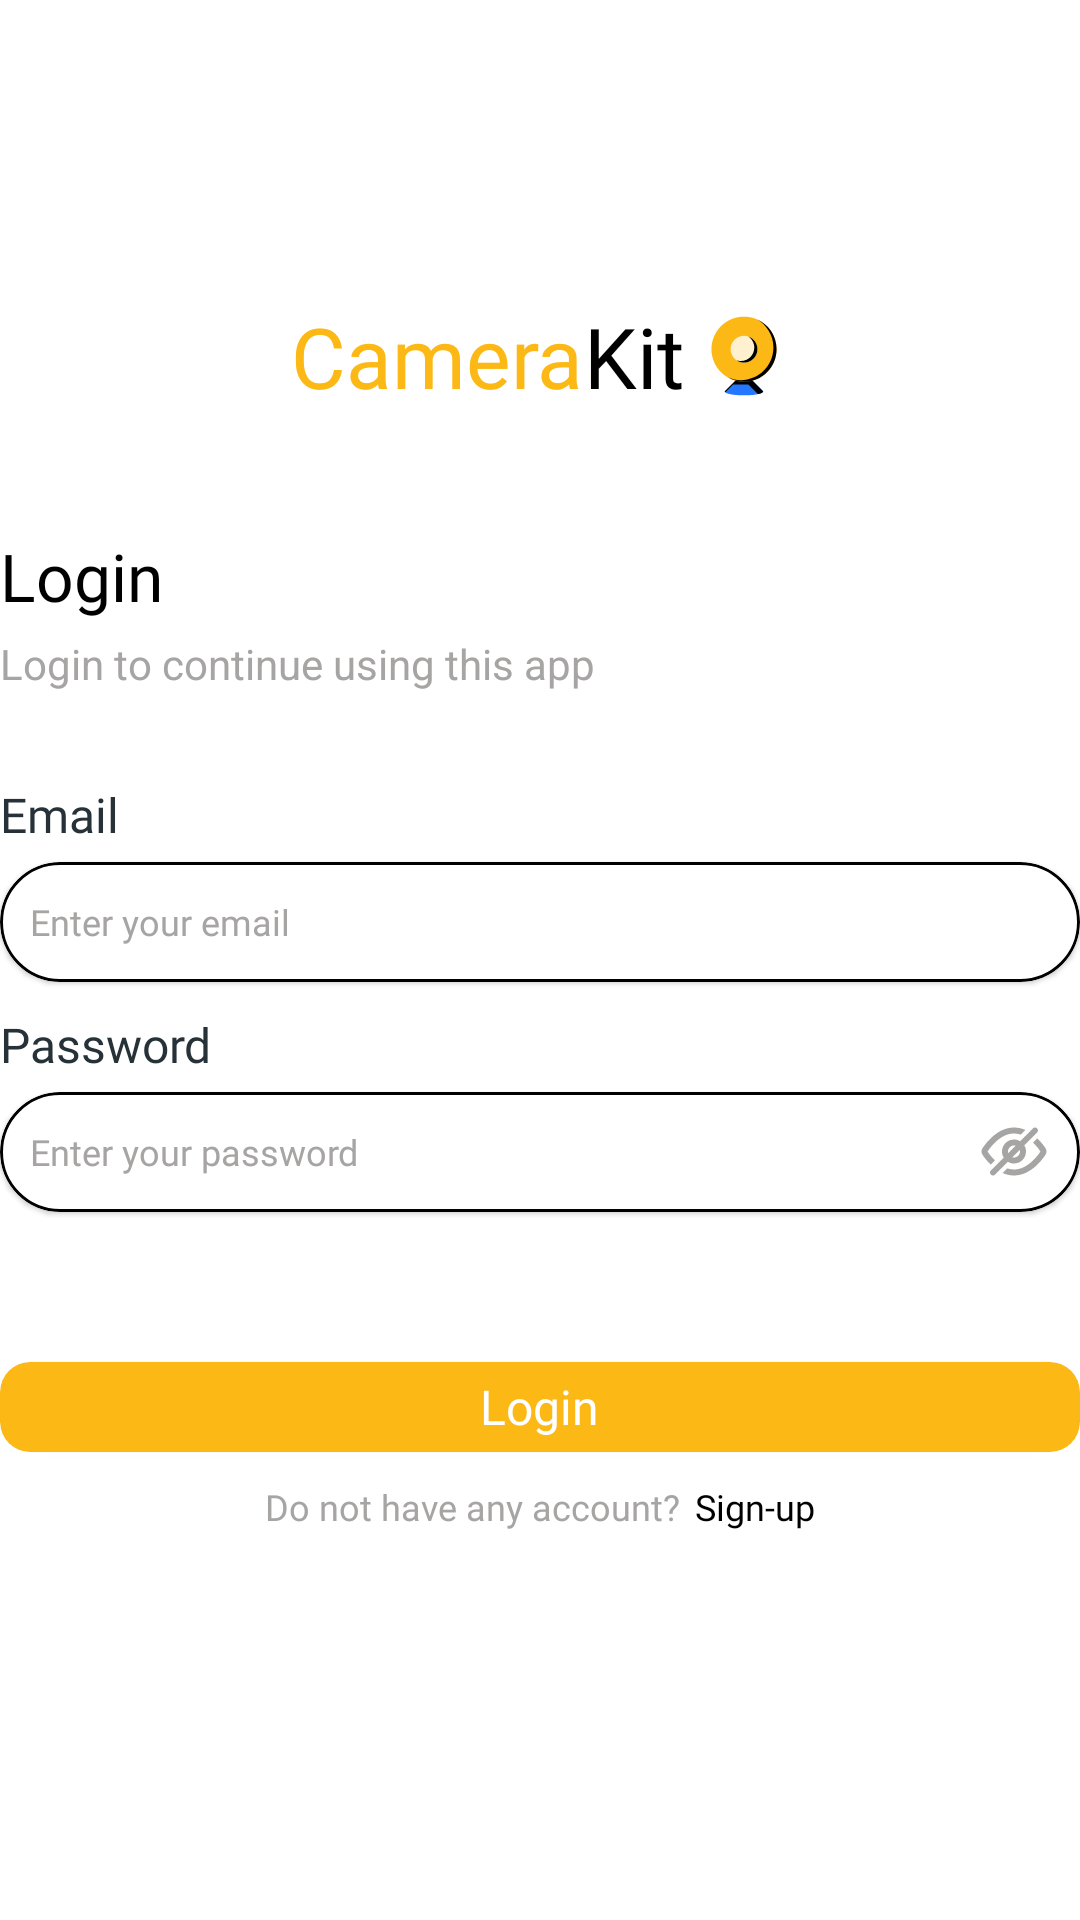

Point at icon controls on the screen. Image size 1080×1920, points as point (x, y).
eye: point (1014, 1151)
